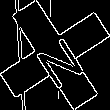N_NW: (24, 23, 86, 87)
